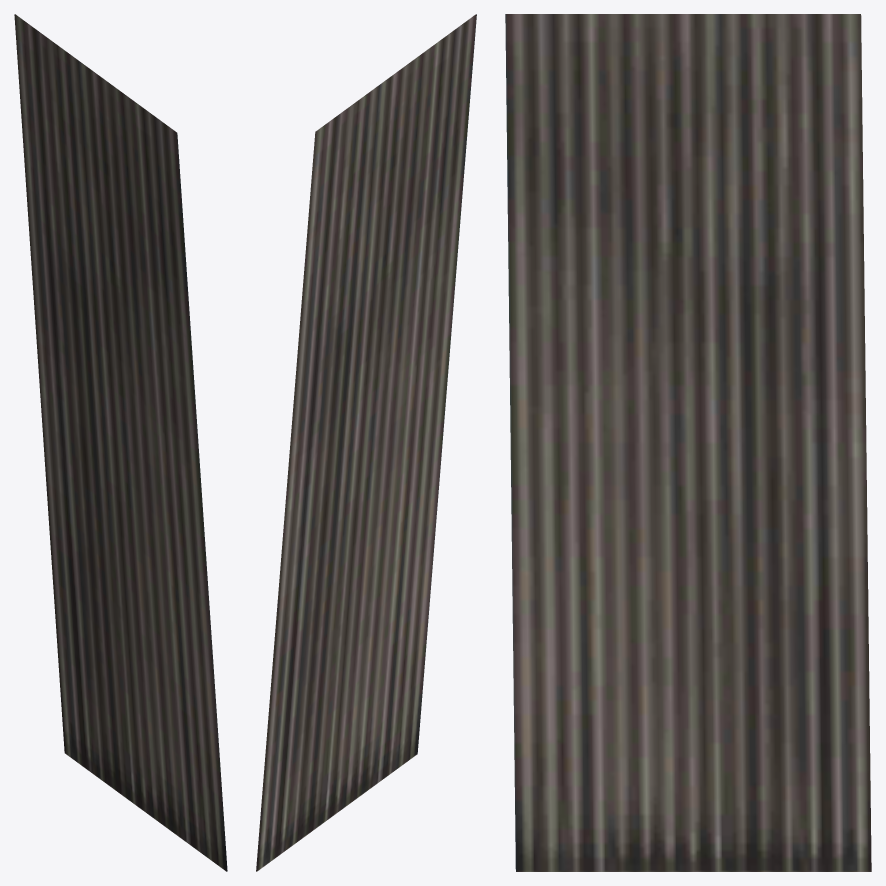
Rendered from plategrey014_plates_0_lev1.glb.
The picture shows the model from 3 angles, left to right: view 1: azimuth 30°, elevation 25°; view 2: azimuth 150°, elevation 25°; view 3: azimuth 270°, elevation 25°; orthographic projection. The views are drawn at different scales.
Visible parts, largest first — view 1: plategrey014_plates_0_lev1; view 2: plategrey014_plates_0_lev1; view 3: plategrey014_plates_0_lev1.
Boxes of the visible parts, x1,y1,x2,y2 form: plategrey014_plates_0_lev1: (14, 14, 227, 871); plategrey014_plates_0_lev1: (256, 14, 476, 871); plategrey014_plates_0_lev1: (505, 14, 871, 871).
Bounding box in the file's own units: 0.0702 × 0.912 × 0.3654.
Materials: 1 (1 with a texture image).
